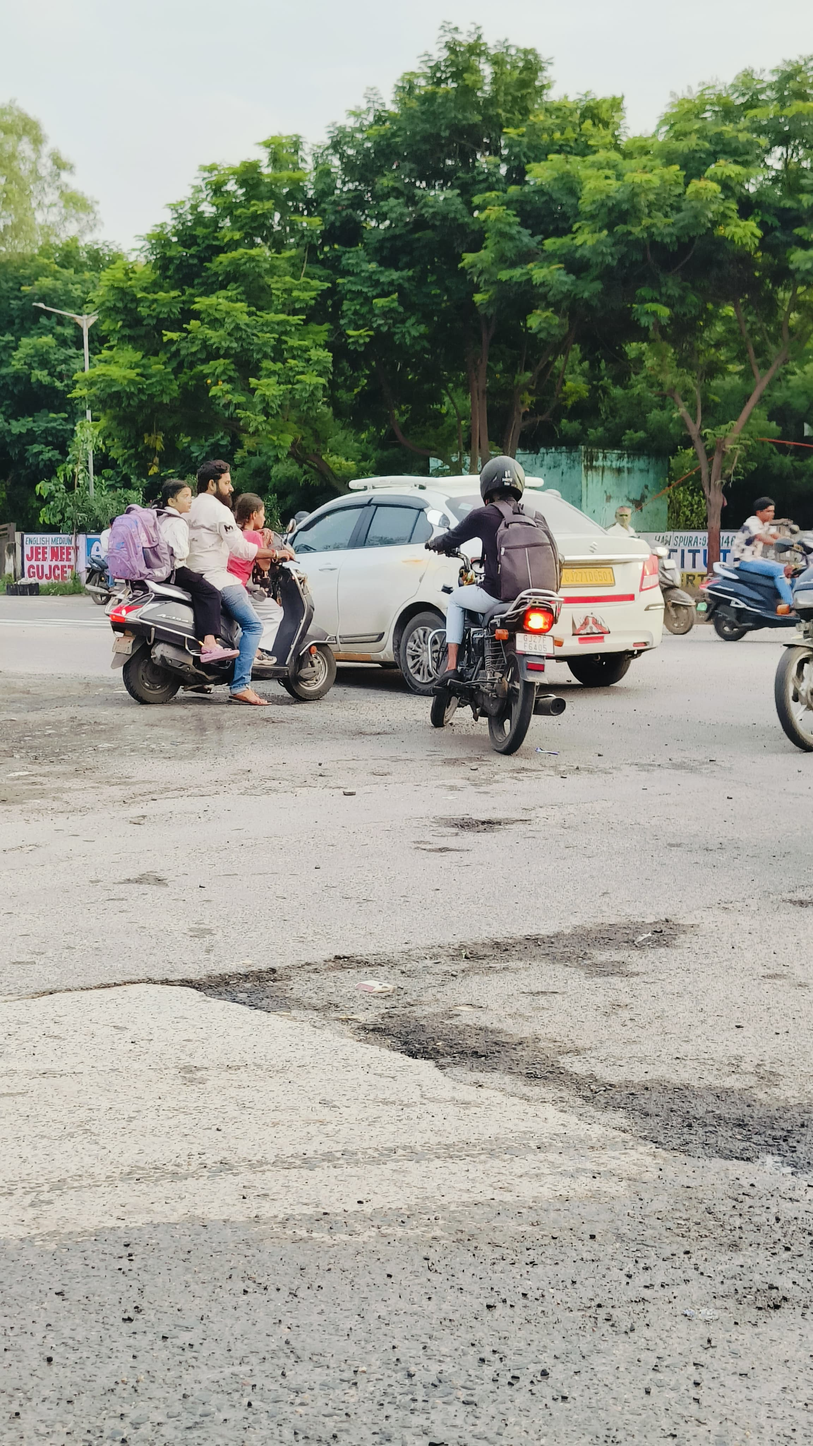BikeWithRider: (98, 457, 347, 707), (697, 492, 813, 643)
Helmet: (475, 448, 530, 509)
NoHelmet: (193, 456, 241, 509), (227, 489, 269, 532), (156, 473, 198, 516), (747, 492, 782, 527)
